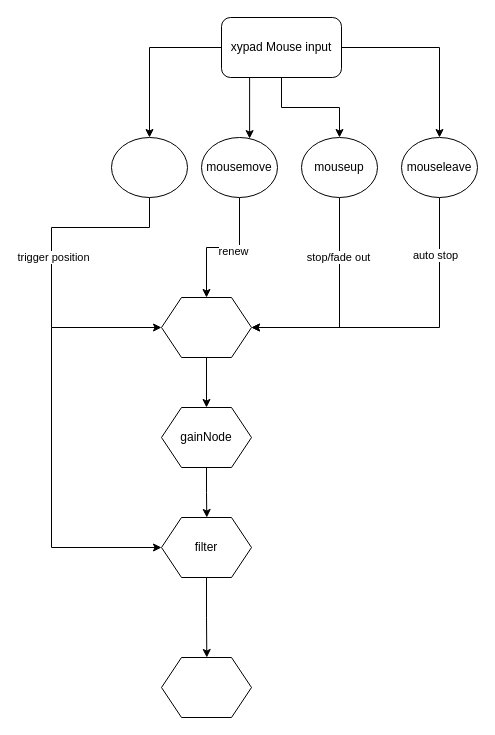
Image size: 495x735. Some labels were removed from this diagram. Each missing label, with the centre of its shape:
"audio output" belongs at [206,687].
"mousedown" belongs at [149,167].
"oscillator" belongs at [206,327].
